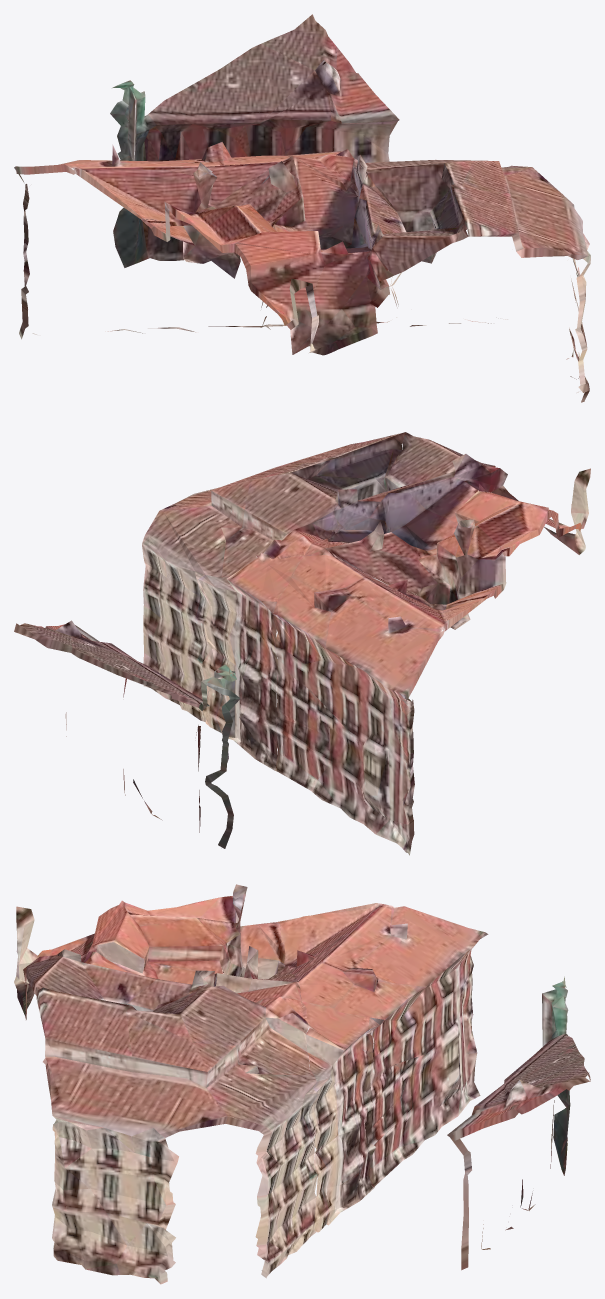
3 views of the same model, one above another, from view 1: azimuth 30°, elevation 25°; view 2: azimuth 150°, elevation 25°; view 3: azimuth 270°, elevation 25° (orthographic). The views are drawn at different scales.
Parts seen in each view (by area): view 1: Mesh_0; view 2: Mesh_0; view 3: Mesh_0.
Boxes of the visible parts, x1,y1,x2,y2 form: Mesh_0: (14,14,590,402); Mesh_0: (14,432,590,855); Mesh_0: (14,884,590,1284).
Bounding box in the file's own units: 32.06 × 19.2 × 41.3.
Materials: 1 (1 with a texture image).
